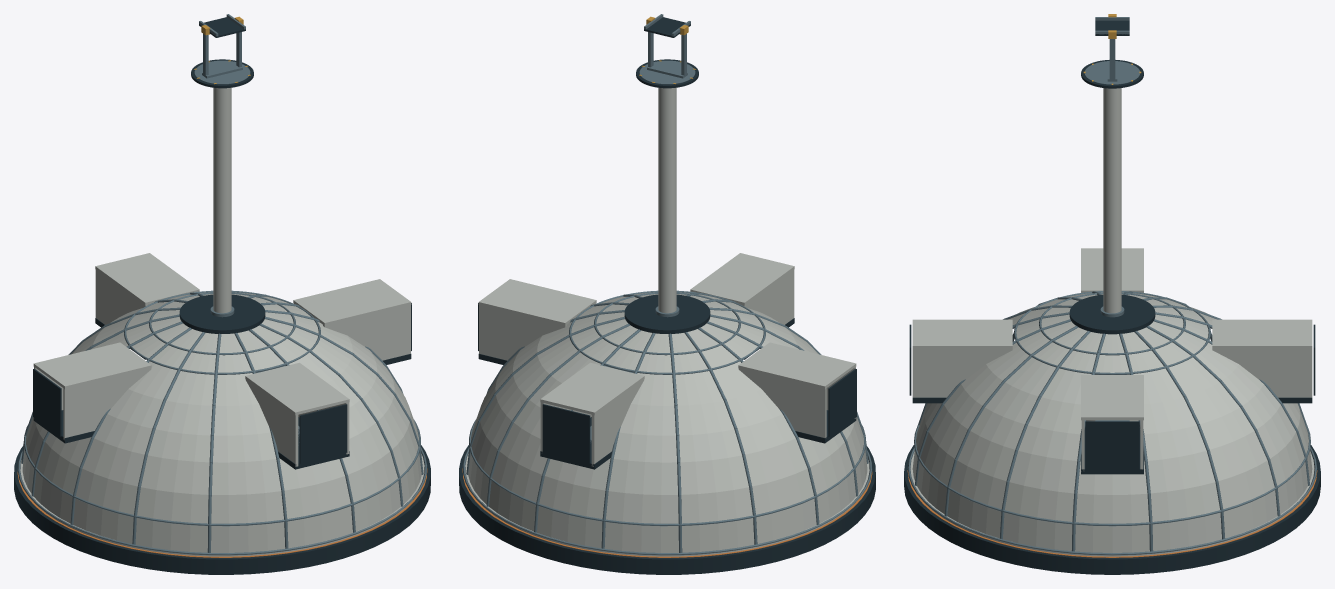
Rendered from power_d0_lod0.glb.
3 renders of one model, left to right at view 1: azimuth 30°, elevation 25°; view 2: azimuth 150°, elevation 25°; view 3: azimuth 270°, elevation 25°, orthographic.
Visible parts, largest first — view 1: SHELL, BODY, PORT_CAP_N, PORT_CAP_W, FORK, CRADLE; view 2: SHELL, BODY, PORT_CAP_S, PORT_CAP_W, FORK, CRADLE; view 3: SHELL, BODY, PORT_CAP_E, CRADLE.
Boxes of the visible parts, x1,y1,x2,y2 form: SHELL: (22,292,421,552); BODY: (14,59,430,574); PORT_CAP_N: (299,404,347,463); PORT_CAP_W: (33,368,61,436); FORK: (201,16,243,78); CRADLE: (199,14,245,37); SHELL: (468,292,867,552); BODY: (459,59,875,574); PORT_CAP_S: (542,404,590,463); PORT_CAP_W: (828,368,856,436); FORK: (646,16,688,78); CRADLE: (644,14,690,37); SHELL: (912,292,1312,552); BODY: (904,60,1320,574); PORT_CAP_E: (1085,421,1139,469); CRADLE: (1095,17,1129,35).
Bounding box in the file's own units: 29.2 × 35.85 × 29.2.
